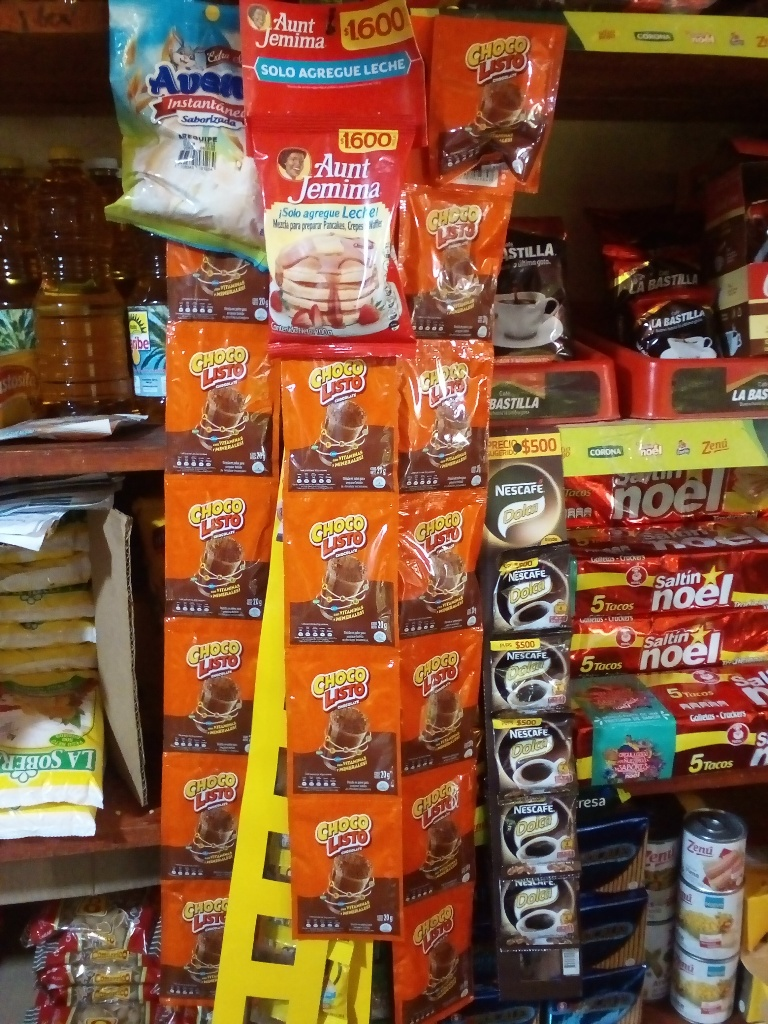COL0170103SOB02000: (164, 317, 279, 481)
